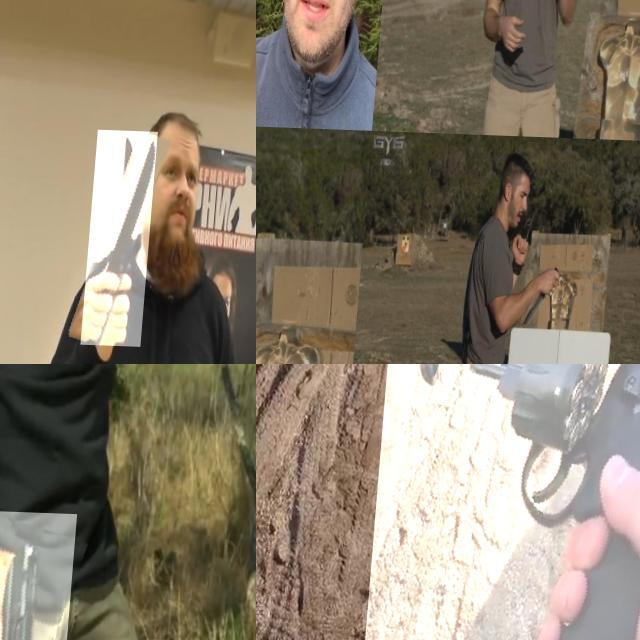-: (86, 128, 160, 344), (256, 0, 336, 109), (526, 260, 566, 323), (256, 184, 272, 288), (558, 0, 579, 45)
gun-knife-thesis - v11 Yolov5 augmented: (368, 364, 640, 640), (0, 506, 92, 640)
